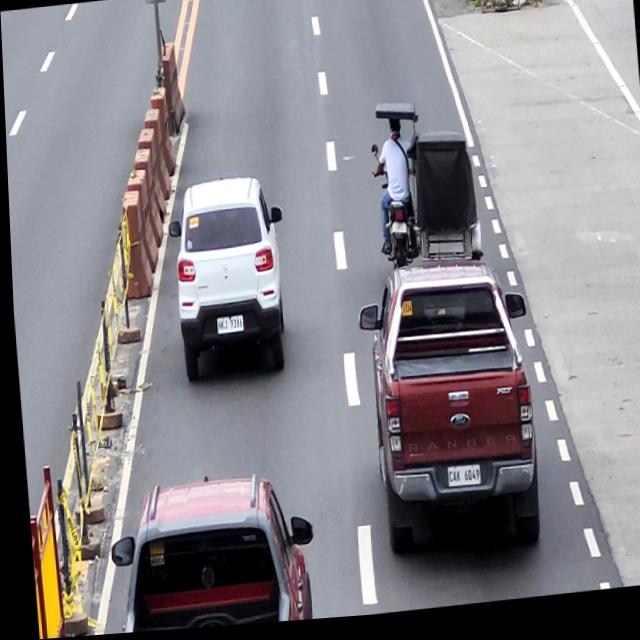Car: (351, 259, 540, 564), (102, 468, 314, 635), (161, 177, 290, 390)
License-Plate: (442, 470, 476, 491), (212, 318, 241, 339), (388, 225, 405, 240)
Tricycle: (368, 98, 481, 281)
